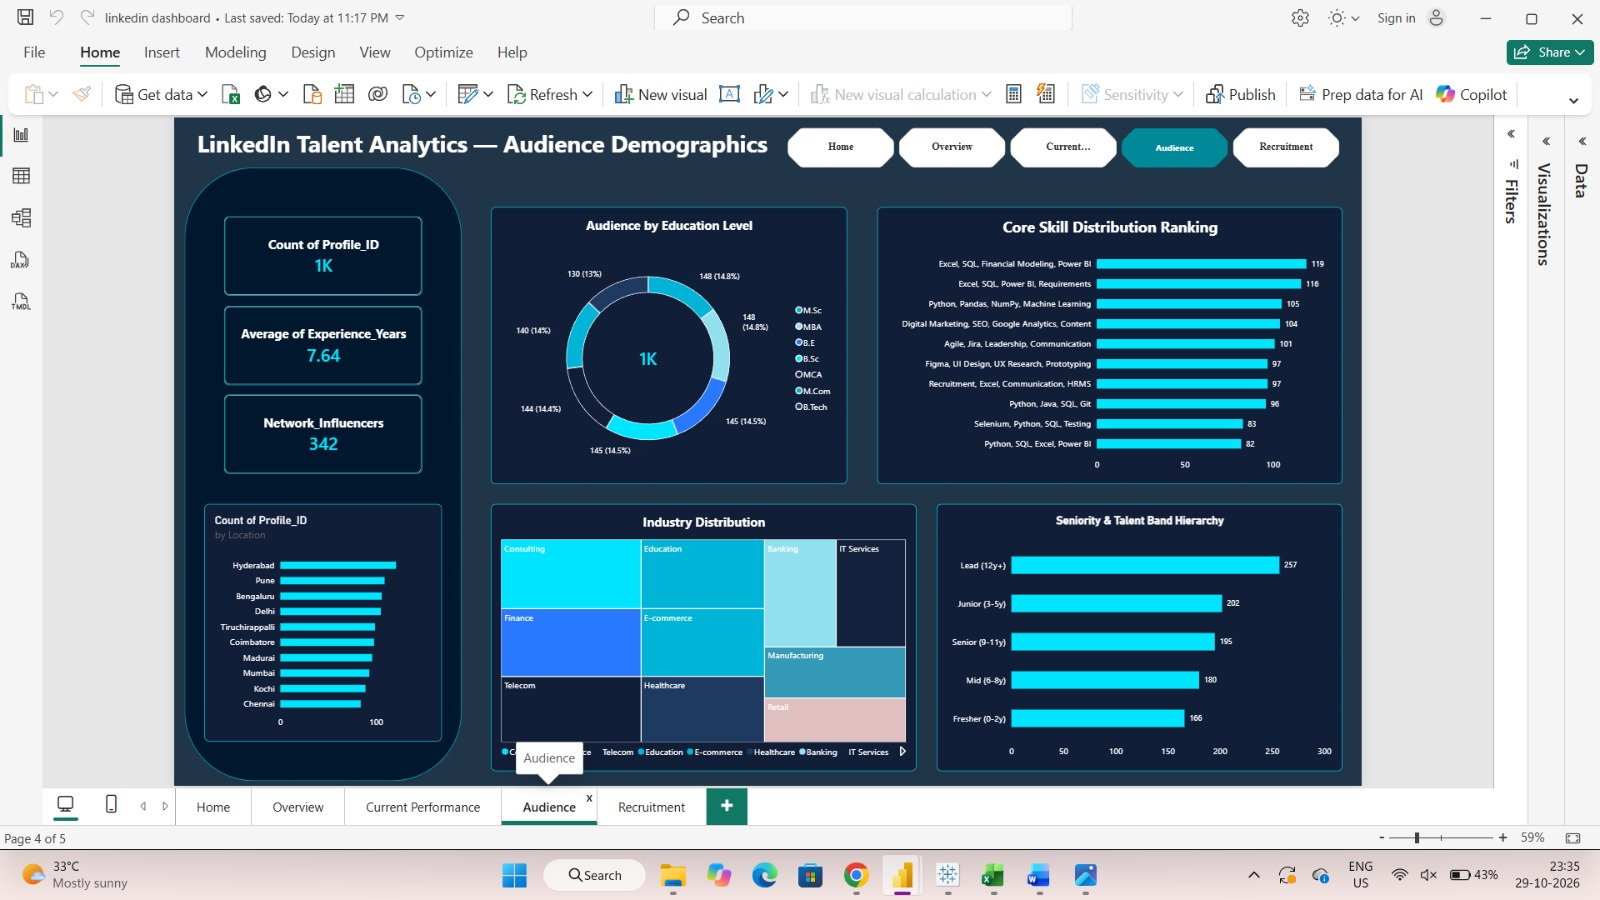

The page's visual inventory and layout, read from the dashboard file:
{"tool":"powerbi","page":{"name":"Audience","canvas":[1920,1080],"ordinal":3},"visuals":[{"type":"textbox","box":[16,16,976,64],"z":0},{"type":"pageNavigator","box":[992,16,896,64],"z":1000},{"type":"shape","box":[16,80,448,992],"z":2000},{"type":"cardVisual","fields":{"Data":["CountNonNull(Linkedin_dataset_csv.Profile_ID)"]},"box":[80,160,320,128],"z":3000},{"type":"cardVisual","fields":{"Data":["Avg(Linkedin_dataset_csv.Experience_Years)"]},"box":[80,304,320,128],"z":4000},{"type":"cardVisual","fields":{"Data":["Linkedin_dataset_csv.Network_Influencers"]},"box":[80,448,320,128],"z":5000},{"type":"clusteredBarChart","fields":{"Category":["Linkedin_dataset_csv.Location"],"Y":["CountNonNull(Linkedin_dataset_csv.Profile_ID)"]},"box":[48,624,384,384],"z":6000},{"type":"clusteredBarChart","title":"Core Skill Distribution Ranking","fields":{"Category":["Linkedin_dataset_csv.Skills"],"Y":["CountNonNull(Linkedin_dataset_csv.Profile_ID)"]},"box":[1136,144,752,448],"z":7000},{"type":"clusteredBarChart","title":"Seniority & Talent Band Hierarchy","fields":{"Category":["Linkedin_dataset_csv.Seniority_Band"],"Y":["CountNonNull(Linkedin_dataset_csv.Profile_ID)"]},"box":[1232,624,656,432],"z":8000},{"type":"treemap","title":"Industry Distribution","fields":{"Group":["Linkedin_dataset_csv.Industry"],"Values":["CountNonNull(Linkedin_dataset_csv.Profile_ID)"]},"box":[512,624,688,432],"z":9000},{"type":"donutChart","title":"Audience by Education Level","fields":{"Category":["Linkedin_dataset_csv.Education"],"Y":["CountNonNull(Linkedin_dataset_csv.Profile_ID)"]},"box":[512,144,576,448],"z":10000}]}

Visuals, with their boxes on the page's 1920x1080 design canvas (x1, y1, x2, y2). These are canvas units, not pixel positions in the 1600x900 screenshot, which may show the page scaled, cropped or inside an application window:
textbox: box(16, 16, 992, 80)
pageNavigator: box(992, 16, 1888, 80)
shape: box(16, 80, 464, 1072)
cardVisual - CountNonNull(Linkedin_dataset_csv.Profile_ID): box(80, 160, 400, 288)
cardVisual - Avg(Linkedin_dataset_csv.Experience_Years): box(80, 304, 400, 432)
cardVisual - Linkedin_dataset_csv.Network_Influencers: box(80, 448, 400, 576)
clusteredBarChart - Linkedin_dataset_csv.Location x CountNonNull(Linkedin_dataset_csv.Profile_ID): box(48, 624, 432, 1008)
"Core Skill Distribution Ranking" clusteredBarChart: box(1136, 144, 1888, 592)
"Seniority & Talent Band Hierarchy" clusteredBarChart: box(1232, 624, 1888, 1056)
"Industry Distribution" treemap: box(512, 624, 1200, 1056)
"Audience by Education Level" donutChart: box(512, 144, 1088, 592)
